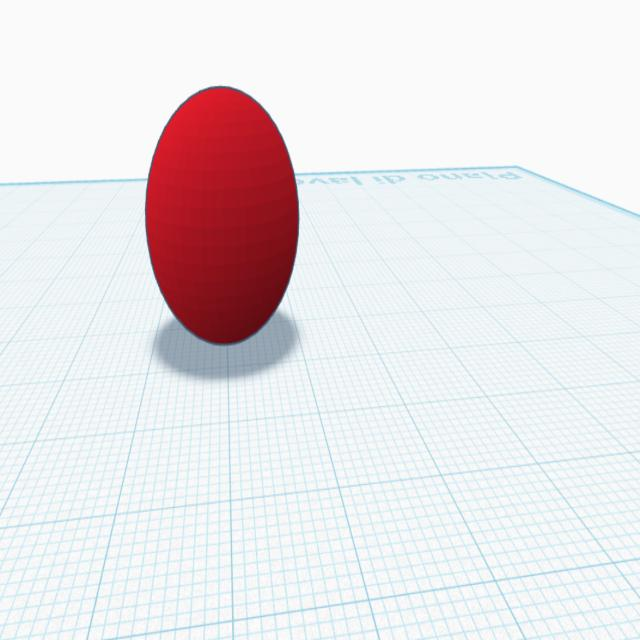sphere: (140, 80, 302, 355)
